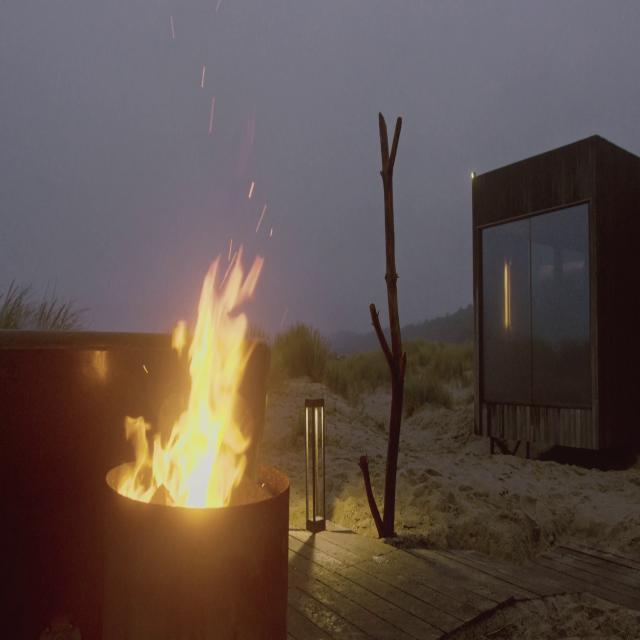Fire: (124, 222, 284, 504)
